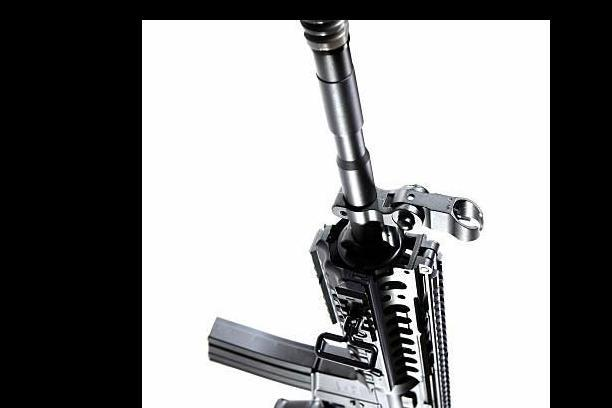larga: (207, 20, 487, 408)
